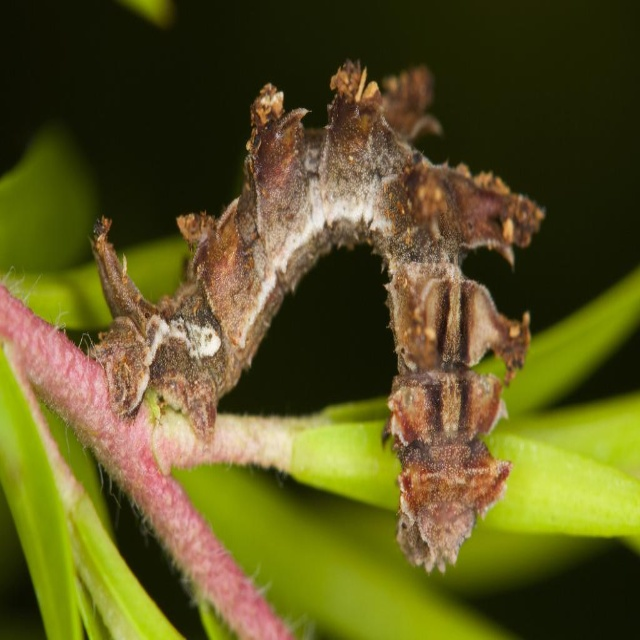Caterpillar: (90, 55, 545, 578)
